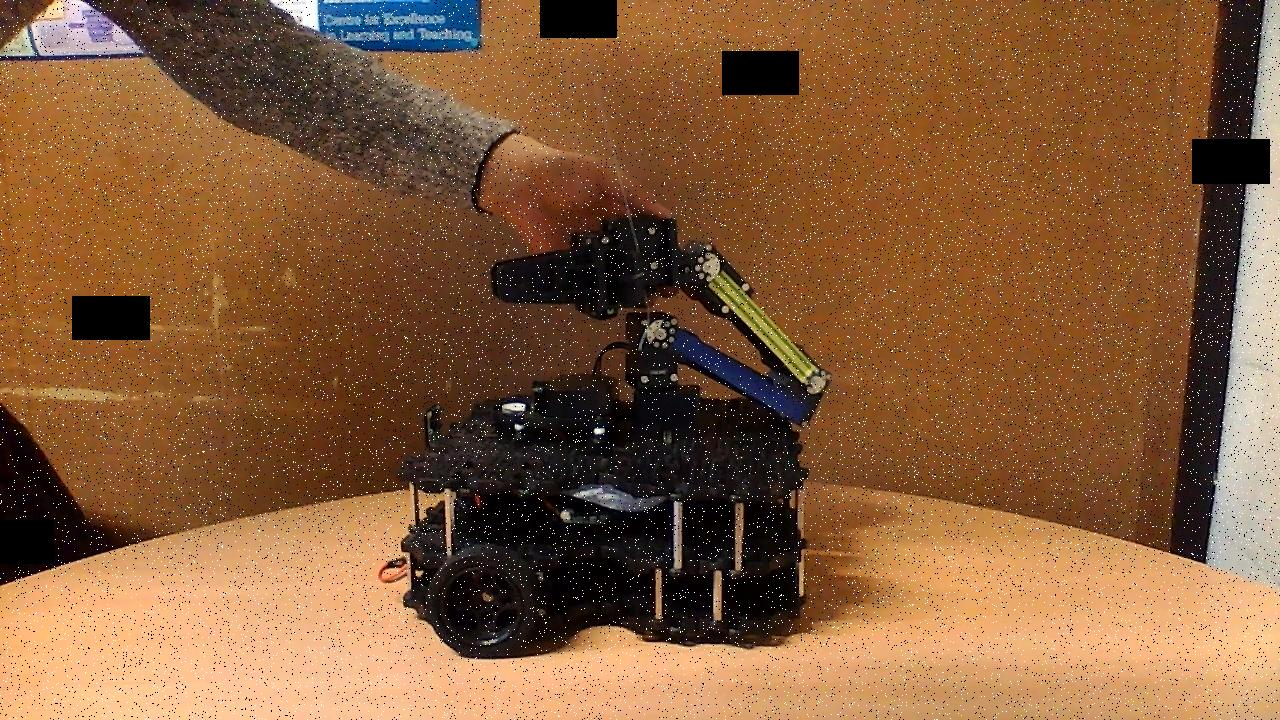Arm: (643, 313, 817, 429)
Hand: (489, 213, 683, 321)
Wrist: (686, 241, 834, 400)
base: (377, 369, 814, 661)
